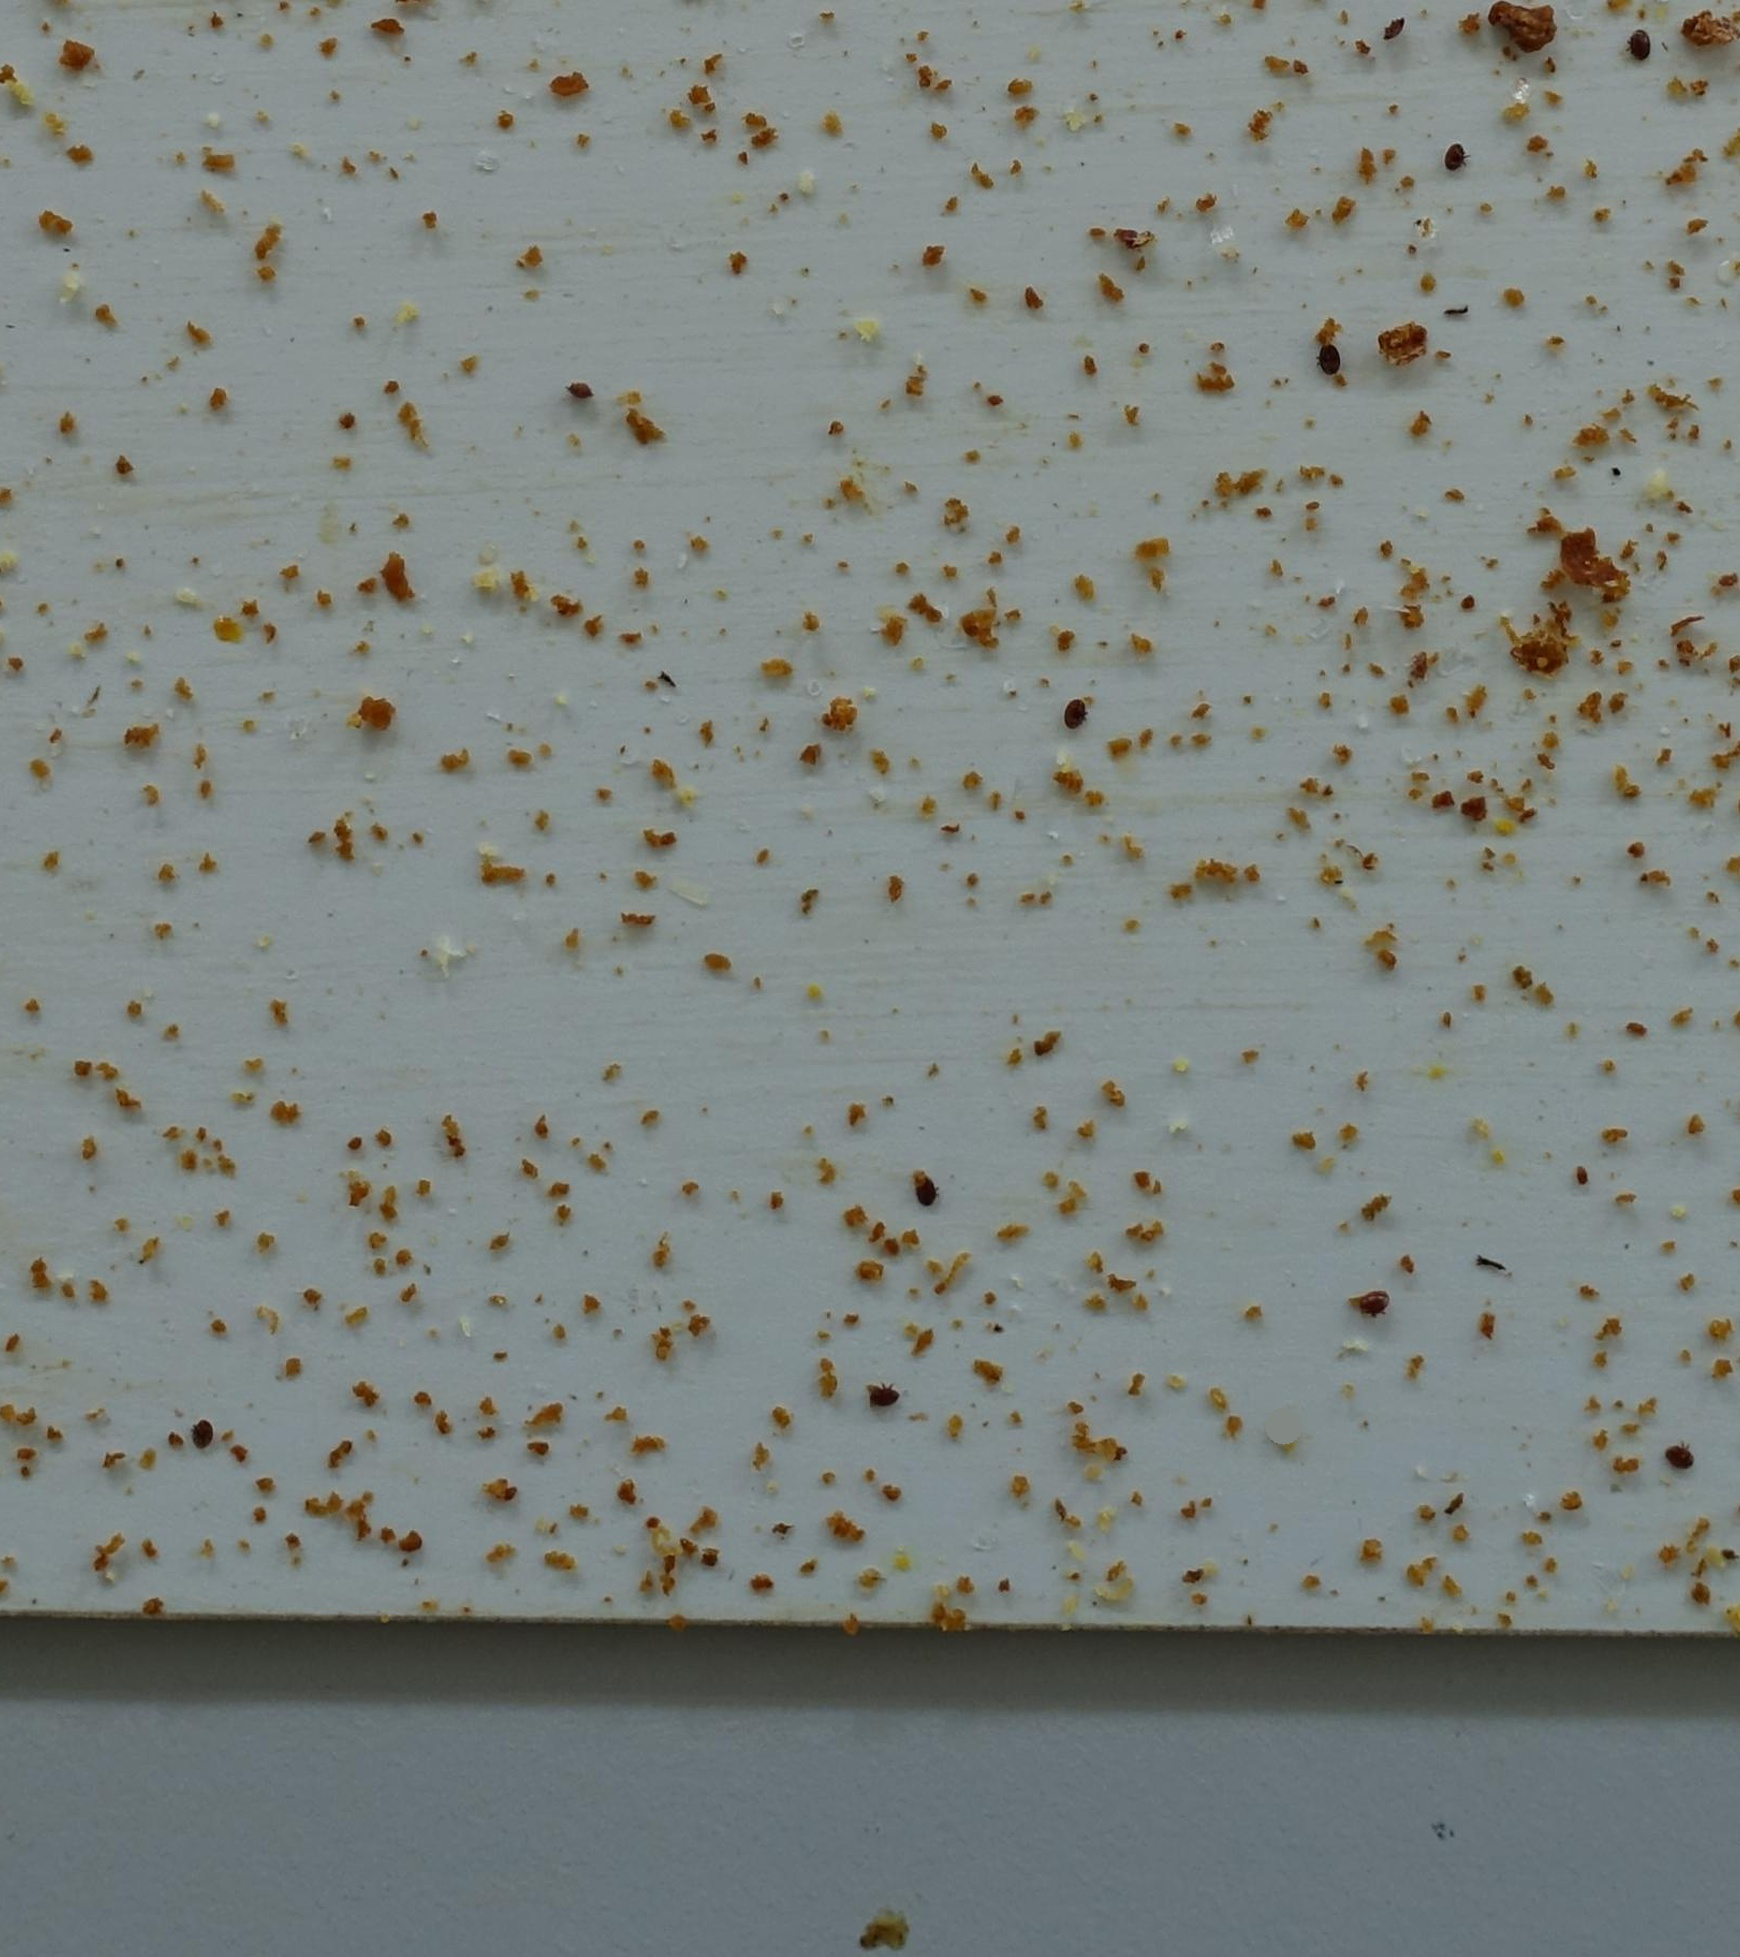Varroa: (1376, 10, 1416, 50), (1443, 141, 1463, 181), (872, 1381, 899, 1409), (1627, 30, 1654, 57), (1056, 704, 1082, 732), (1664, 1445, 1690, 1470), (190, 1416, 215, 1441), (914, 1183, 937, 1209), (1364, 1288, 1384, 1309), (1317, 353, 1335, 370)
